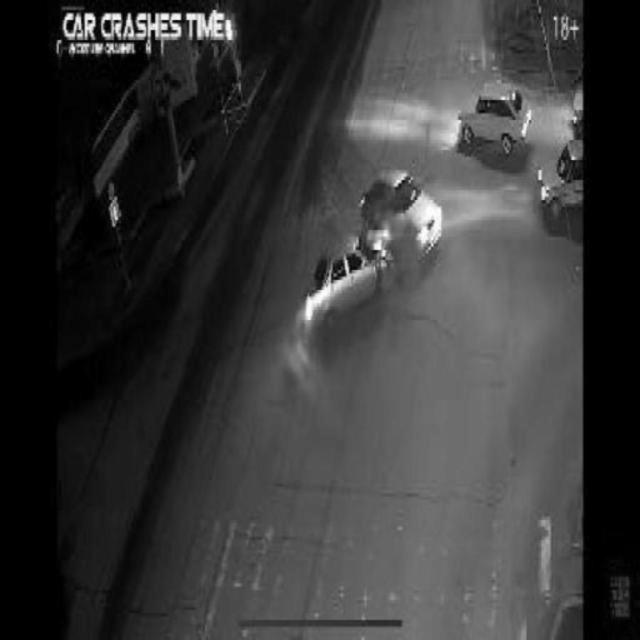accident: (299, 170, 446, 346)
vehicle: (448, 83, 536, 160), (527, 140, 595, 233)
